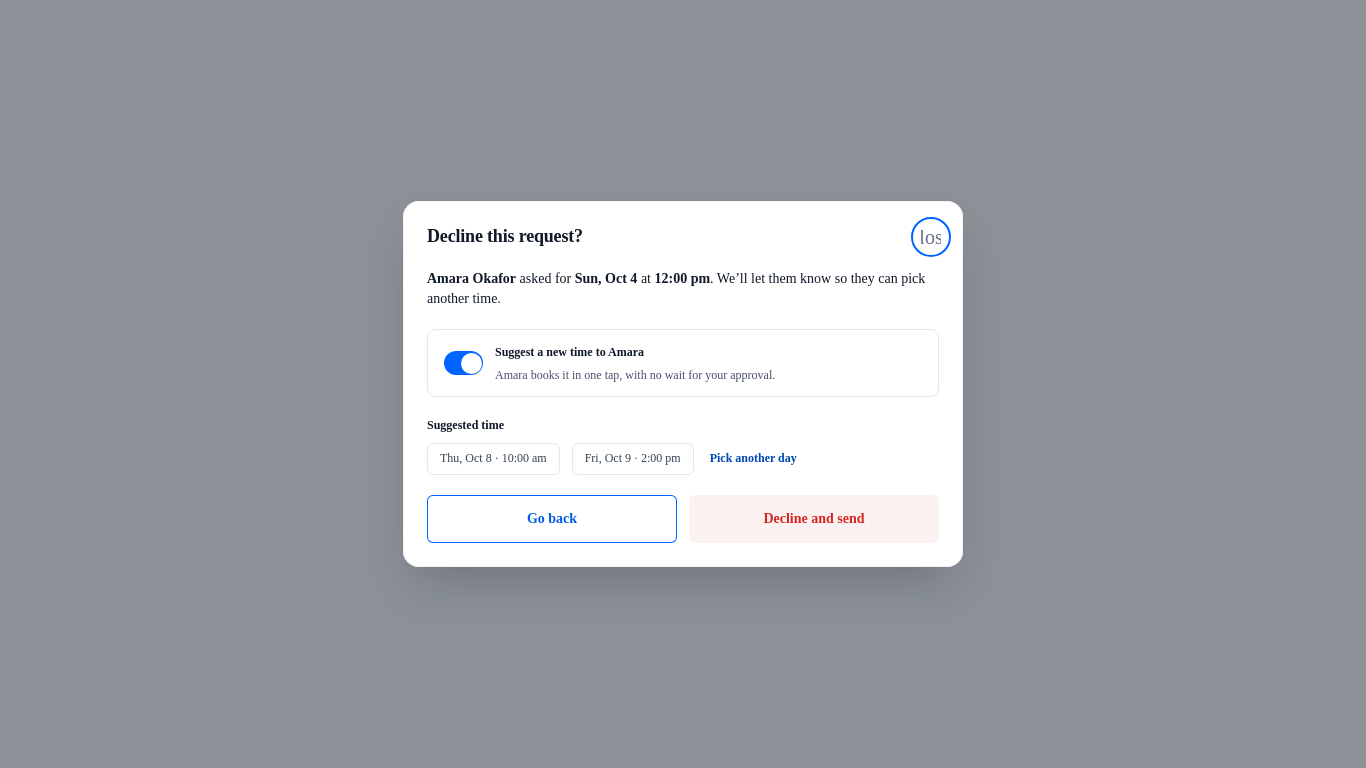
Scenario: the reason is required, and means it › says what the other person will be told, and changes it for Other
The width and height of the screenshot is (1366, 768).
Step 1. Click the switch named "Suggest a new time to Amara" → [464, 363], box [444,351,483,375]
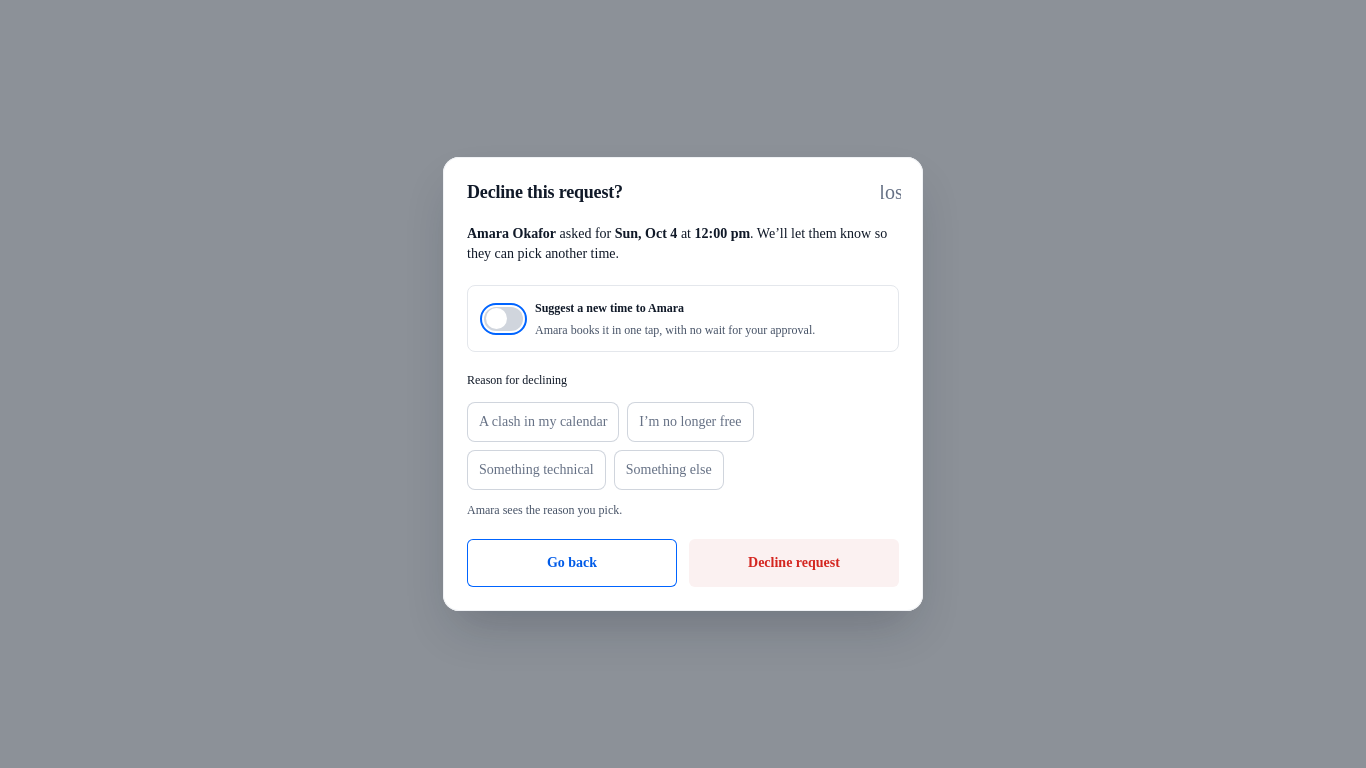
Result: the text "Amara sees the reason you pick." is shown at [467,503,622,517]
Step 2. Click the button "Something else" → [669, 470], box [614,450,724,490]
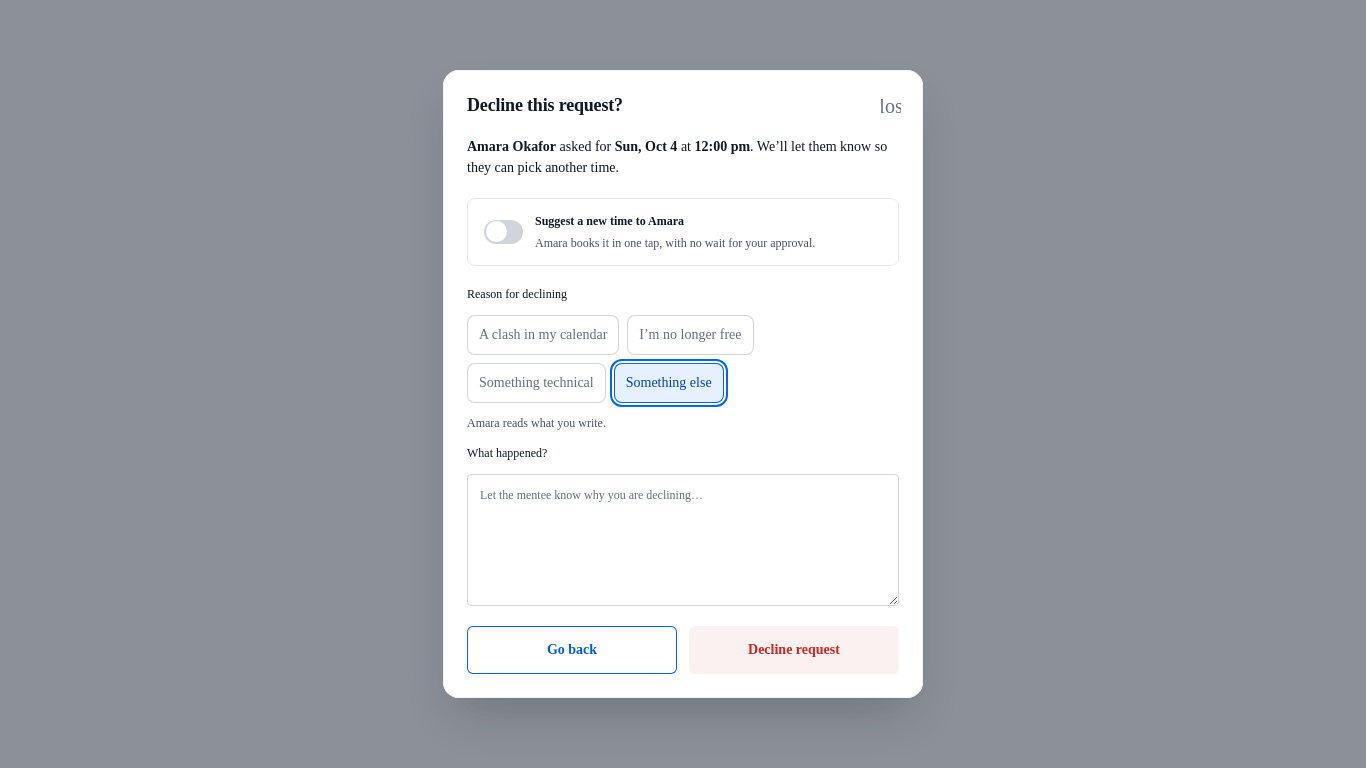
Result: the text "Amara reads what you write." is shown at [467,416,606,430]
